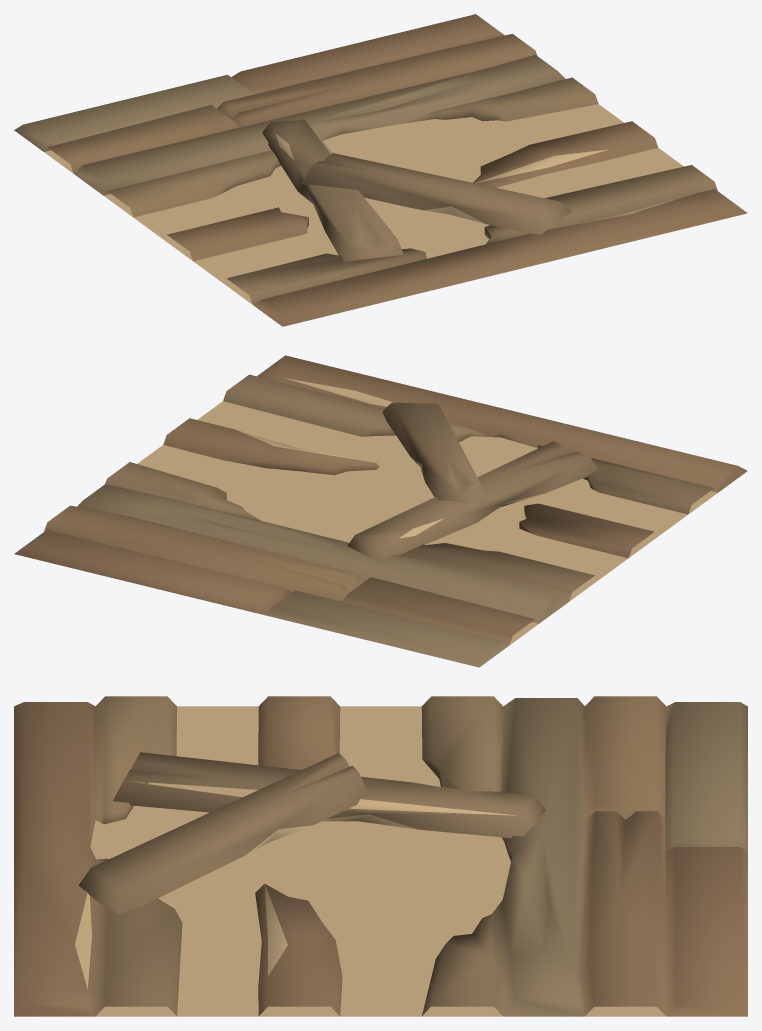
File: rpgpp_av_floor_02c_3x3.gltf
3 renders of one model, top to bottom at view 1: azimuth 30°, elevation 25°; view 2: azimuth 150°, elevation 25°; view 3: azimuth 270°, elevation 25°, orthographic. The views are drawn at different scales.
Parts seen in each view (by area): view 1: rpgpp_av_floor_02c_3x3; view 2: rpgpp_av_floor_02c_3x3; view 3: rpgpp_av_floor_02c_3x3.
Part boxes in pixels (box(x1,y1,x2,y2)): rpgpp_av_floor_02c_3x3: box(14, 14, 747, 326); rpgpp_av_floor_02c_3x3: box(14, 355, 747, 667); rpgpp_av_floor_02c_3x3: box(14, 696, 747, 1016).
Bounding box in the file's own units: 0.03 × 0.00237 × 0.03.
Materials: 1 (1 with a texture image).
